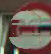No overtake: (6, 1, 48, 49)
